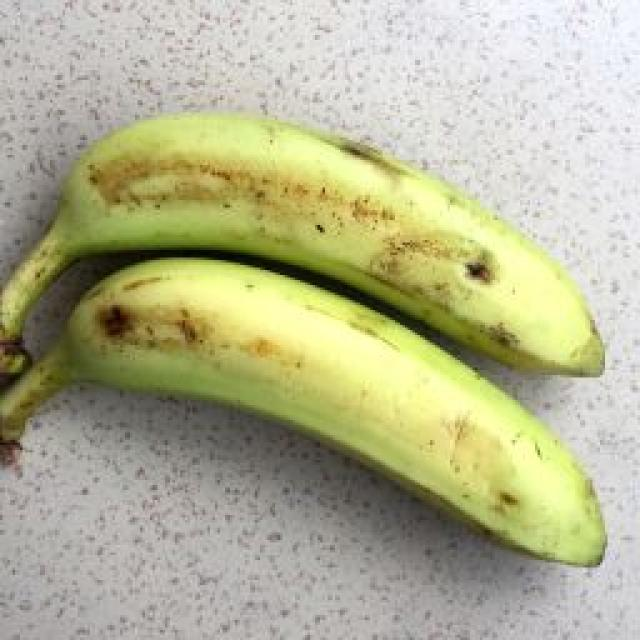banana: (0, 258, 601, 565), (1, 114, 604, 375)
